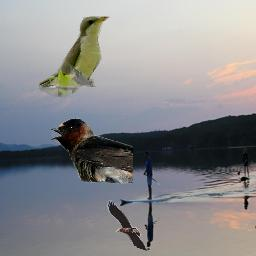Crow: (107, 200, 147, 251)
Cuckoo: (39, 14, 110, 98)
Swallow: (49, 118, 133, 184)
